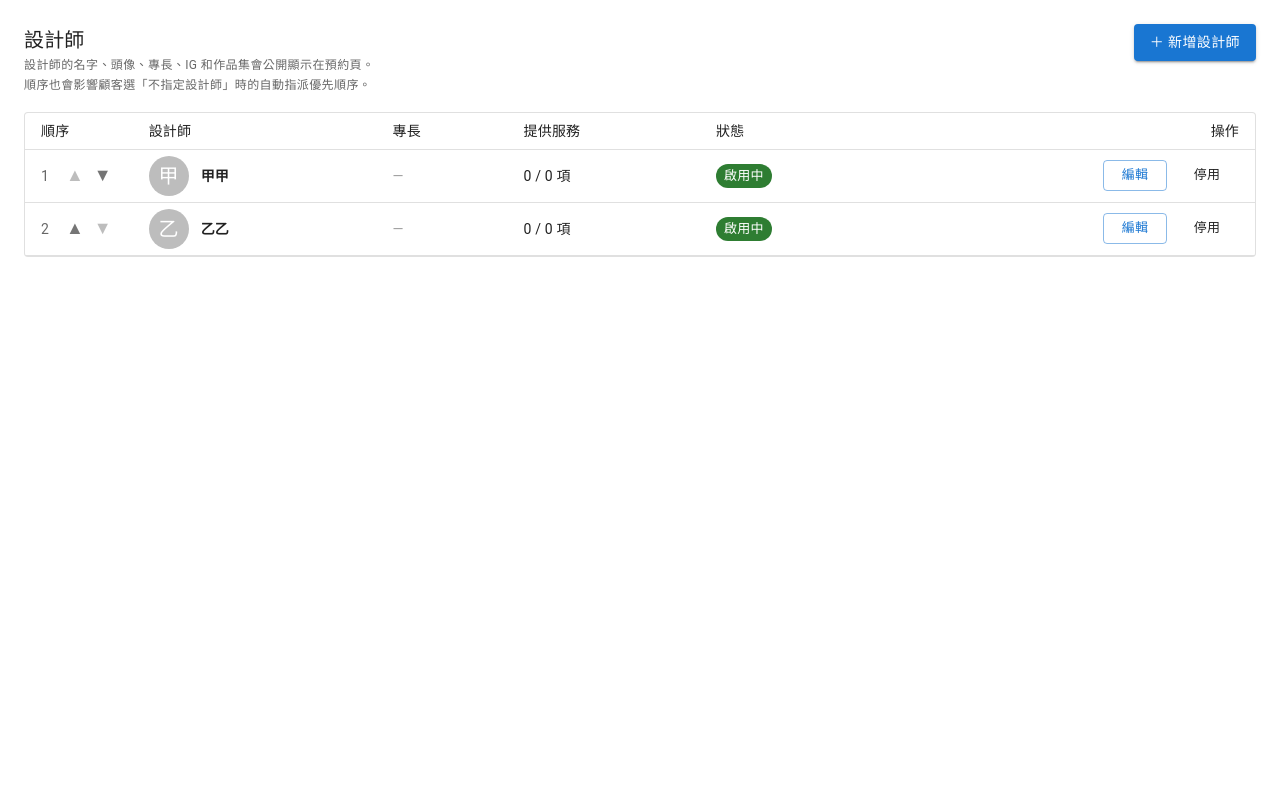
DesignersTable › 查不到未來預約筆數時不顯示 0，仍可確認停用
Step 1. Click the button "停用" in the row of "甲甲" → (1207, 176), box [1175, 160, 1239, 191]
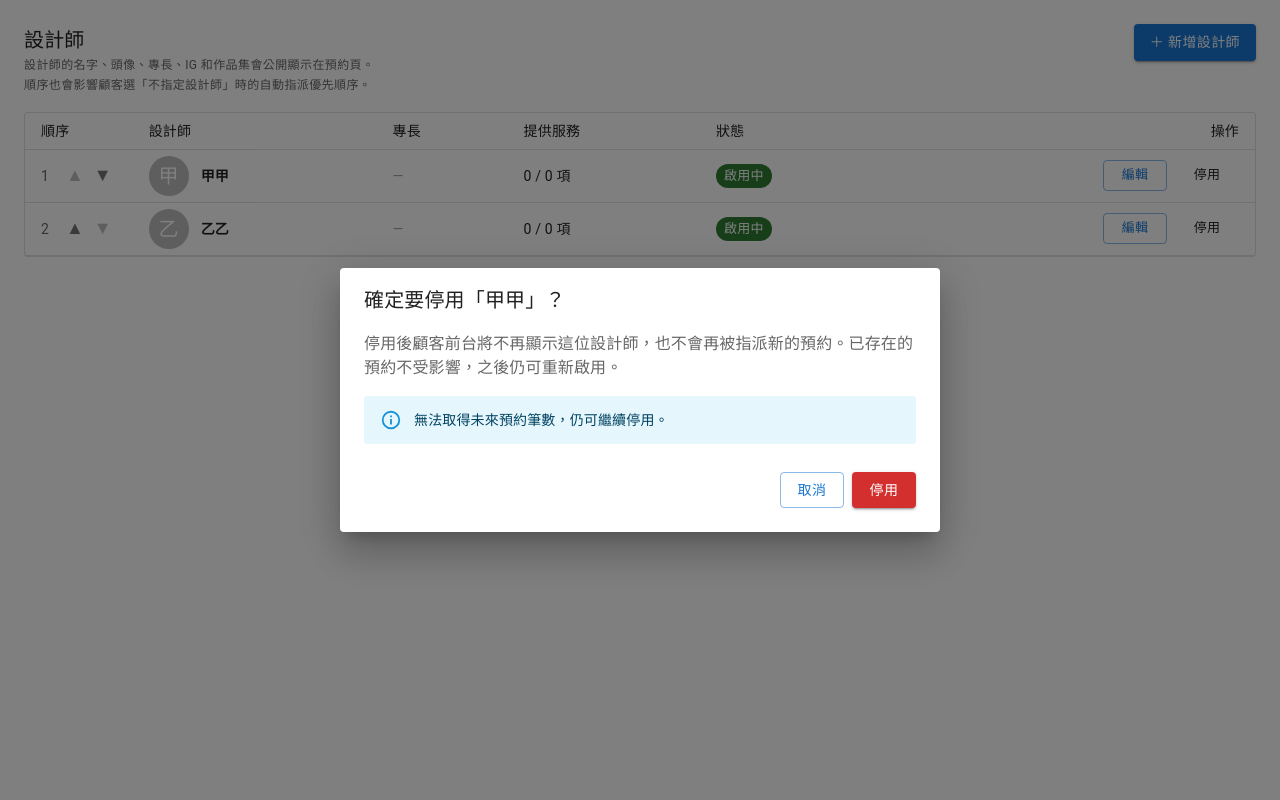
Expected: the text "無法取得未來預約筆數，仍可繼續停用。" is shown, [414, 412, 669, 428]
Expected: the button "停用" is enabled, [852, 472, 916, 508]
